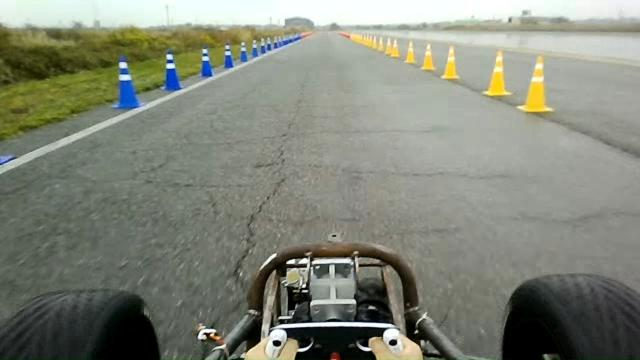blue cone: (111, 55, 141, 109), (159, 49, 184, 91), (199, 46, 213, 78), (223, 42, 235, 68), (239, 41, 248, 62), (251, 39, 259, 58)
yellow cone: (517, 55, 554, 113), (482, 50, 513, 97), (440, 45, 460, 80), (420, 42, 436, 71), (404, 40, 416, 63), (390, 38, 400, 58)
